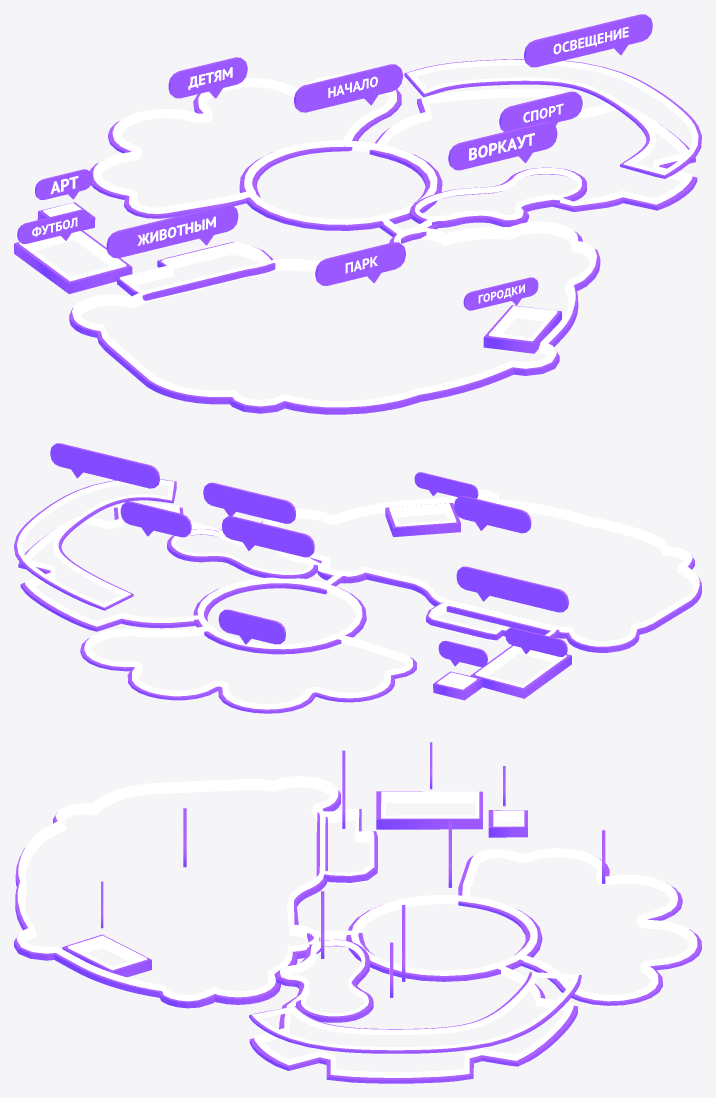
Rendered from callouts.glb.
The picture shows the model from 3 angles, top to bottom: view 1: azimuth 30°, elevation 25°; view 2: azimuth 150°, elevation 25°; view 3: azimuth 270°, elevation 25°; orthographic projection. The views are drawn at different scales.
Visible parts, largest first — view 1: ML_1_1, ML_3_1, ML_6_1, ML_1_2, ML_5_1, ML_4, ML_5, ML_10, ML_2, ML_3_2, ML_1, ML_4_1 (+16 smaller); view 2: ML_1_1, ML_6_1, ML_3_1, ML_1_2, ML_4, ML_5_1, ML_5, ML_10, ML_2, ML_3_2, ML_6_2, ML_1 (+17 smaller); view 3: ML_1_1, ML_6_1, ML_3_1, ML_5_1, ML_1_2, ML_3_2, ML_6_2, ML_5_2, ML_2_1, ML_7_1, ML_7_2, ML_2_2 (+8 smaller).
Boxes of the visible parts, bbox=[...] form: ML_1_1: bbox=[72, 221, 596, 407]; ML_3_1: bbox=[375, 88, 692, 234]; ML_6_1: bbox=[93, 74, 396, 213]; ML_1_2: bbox=[69, 231, 600, 414]; ML_5_1: bbox=[407, 59, 698, 175]; ML_4: bbox=[106, 204, 238, 258]; ML_5: bbox=[524, 14, 652, 67]; ML_10: bbox=[448, 122, 557, 170]; ML_2: bbox=[294, 64, 402, 112]; ML_3_2: bbox=[369, 98, 697, 243]; ML_1: bbox=[315, 242, 405, 285]; ML_4_1: bbox=[120, 242, 271, 292]; ML_1_1: bbox=[262, 489, 699, 646]; ML_6_1: bbox=[84, 626, 412, 709]; ML_3_1: bbox=[25, 503, 344, 626]; ML_1_2: bbox=[261, 497, 701, 652]; ML_4: bbox=[456, 566, 568, 612]; ML_5_1: bbox=[17, 479, 174, 607]; ML_5: bbox=[50, 443, 159, 488]; ML_10: bbox=[203, 482, 295, 523]; ML_2: bbox=[222, 516, 314, 557]; ML_3_2: bbox=[18, 507, 345, 631]; ML_6_2: bbox=[80, 638, 416, 713]; ML_1: bbox=[454, 496, 531, 533]; ML_1_1: bbox=[16, 776, 338, 1001]; ML_6_1: bbox=[462, 848, 697, 1001]; ML_3_1: bbox=[254, 930, 573, 1077]; ML_5_1: bbox=[252, 972, 578, 1050]; ML_1_2: bbox=[14, 790, 340, 1008]; ML_3_2: bbox=[249, 933, 577, 1083]; ML_6_2: bbox=[458, 855, 701, 1005]; ML_5_2: bbox=[249, 972, 581, 1053]; ML_2_1: bbox=[351, 894, 535, 975]; ML_7_1: bbox=[381, 791, 479, 818]; ML_7_2: bbox=[376, 791, 482, 829]; ML_2_2: bbox=[346, 904, 542, 981].
Size of the model in its own units: 297 by 62.25 by 284.
